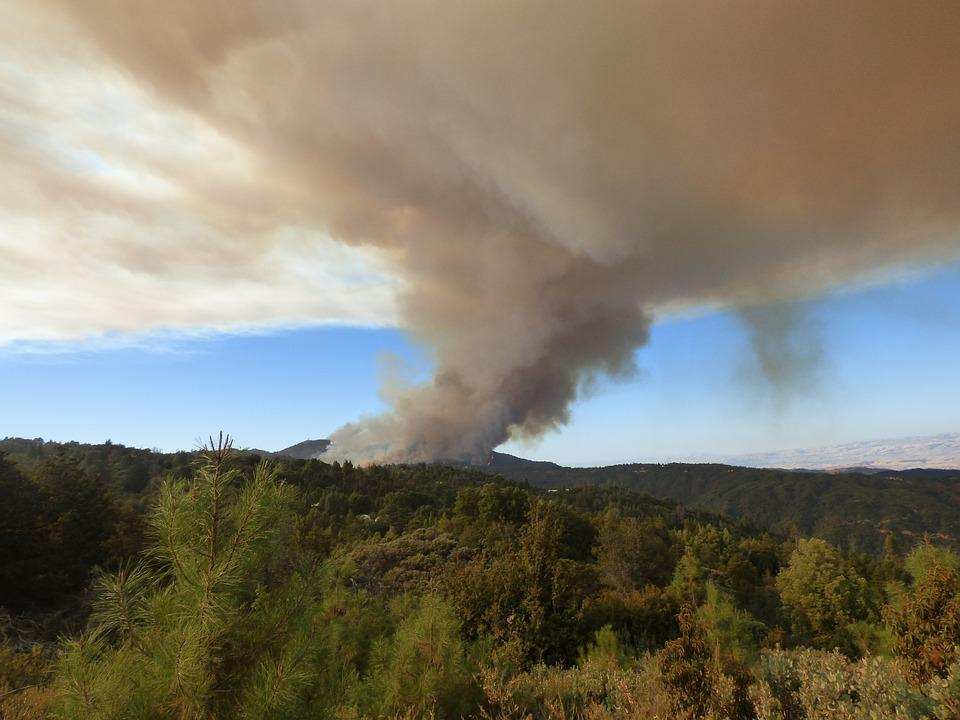smoke: (303, 219, 677, 468)
